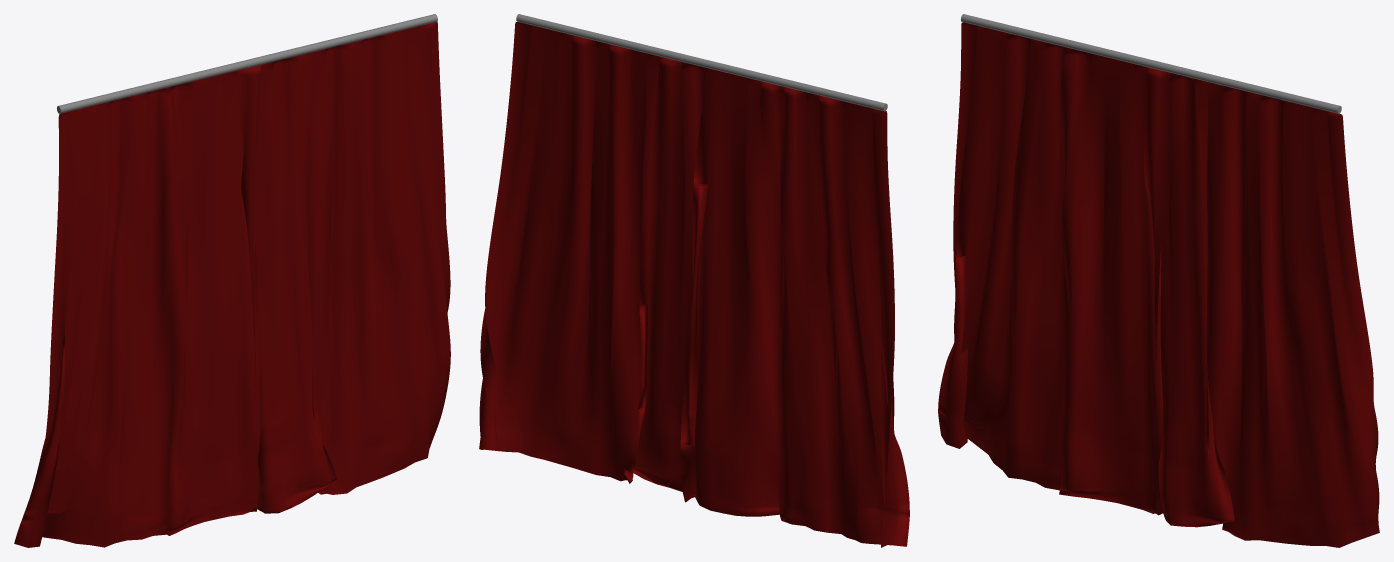
Rendered from NC_LeftCurtain_03_DF.fbx.
The picture shows the model from 3 angles, left to right: view 1: azimuth 30°, elevation 25°; view 2: azimuth 150°, elevation 25°; view 3: azimuth 330°, elevation 25°; orthographic projection. The views are drawn at different scales.
Parts seen in each view (by area): view 1: Curtain1, Pole; view 2: Curtain1, Pole; view 3: Curtain1, Pole.
Part boxes in pixels (x1=…): Curtain1: x1=14, y1=21, x2=450, y2=547; Pole: x1=57, y1=14, x2=437, y2=113; Curtain1: x1=479, y1=22, x2=909, y2=547; Pole: x1=516, y1=14, x2=887, y2=111; Curtain1: x1=938, y1=22, x2=1379, y2=547; Pole: x1=961, y1=14, x2=1341, y2=113.
Bounding box in the file's own units: 6.78 × 6.82 × 0.9406.
